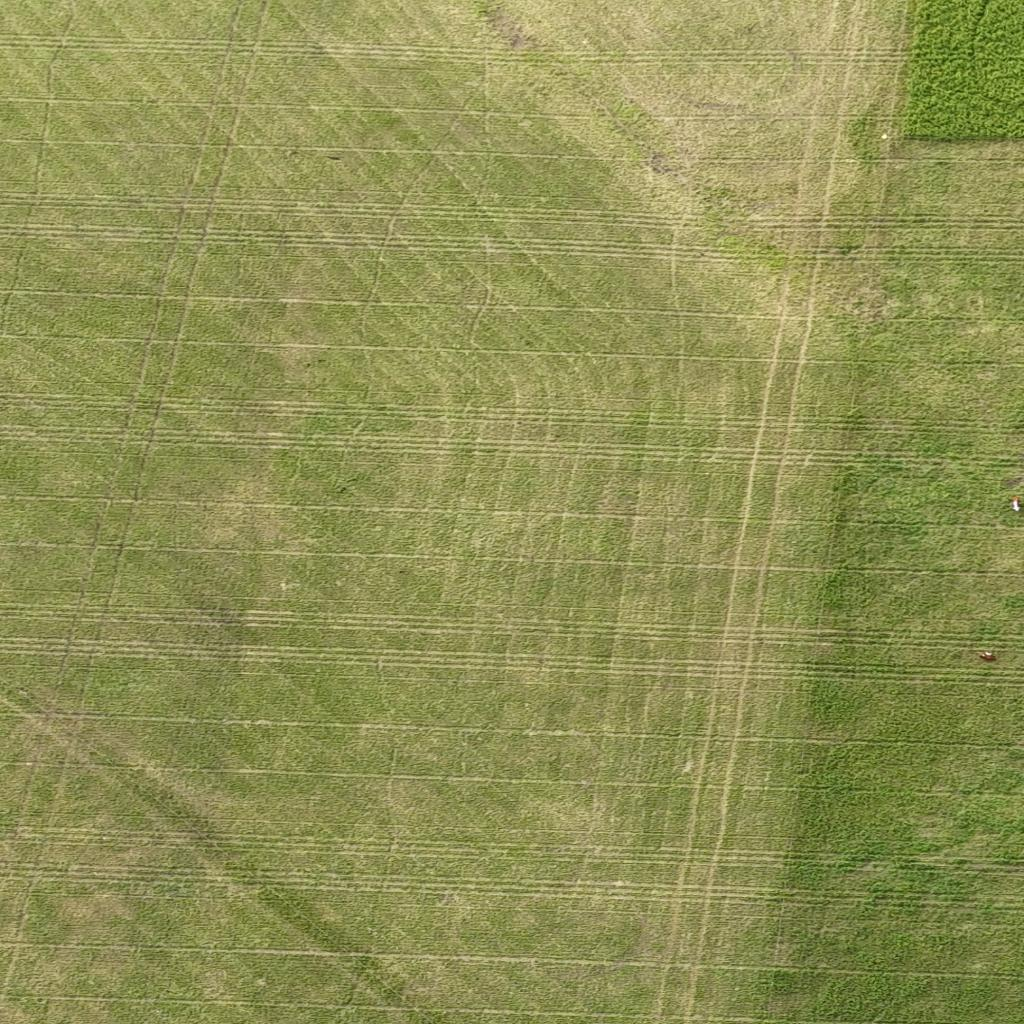cow: (1008, 494, 1022, 513), (977, 651, 996, 661)
